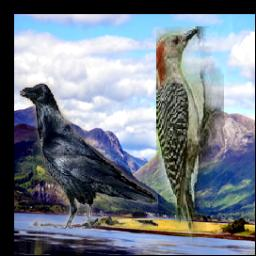Crow: (19, 82, 157, 229)
Woodpecker: (156, 27, 224, 245)
